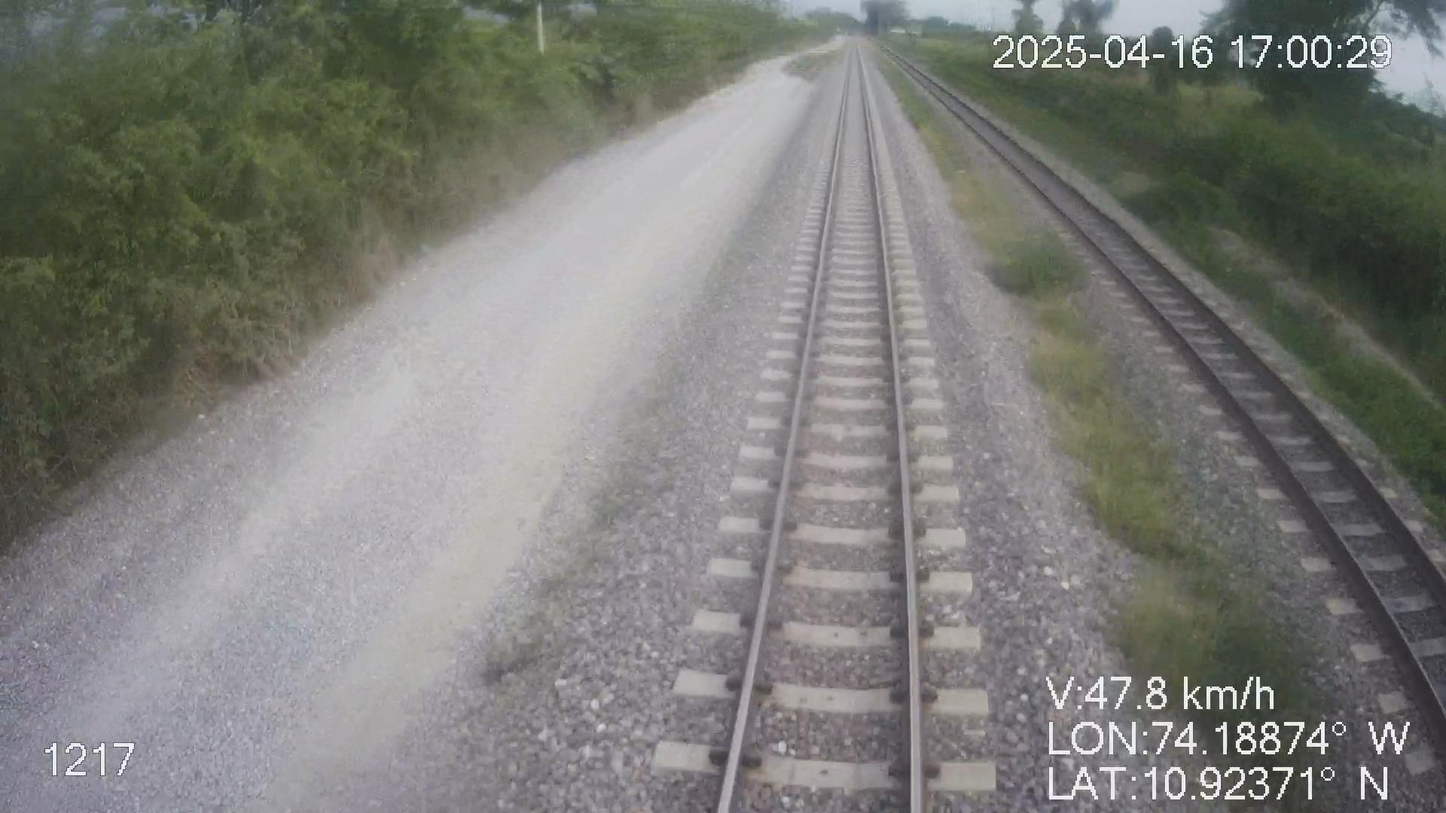Pasto: (0, 0, 813, 554), (916, 29, 1445, 568)
